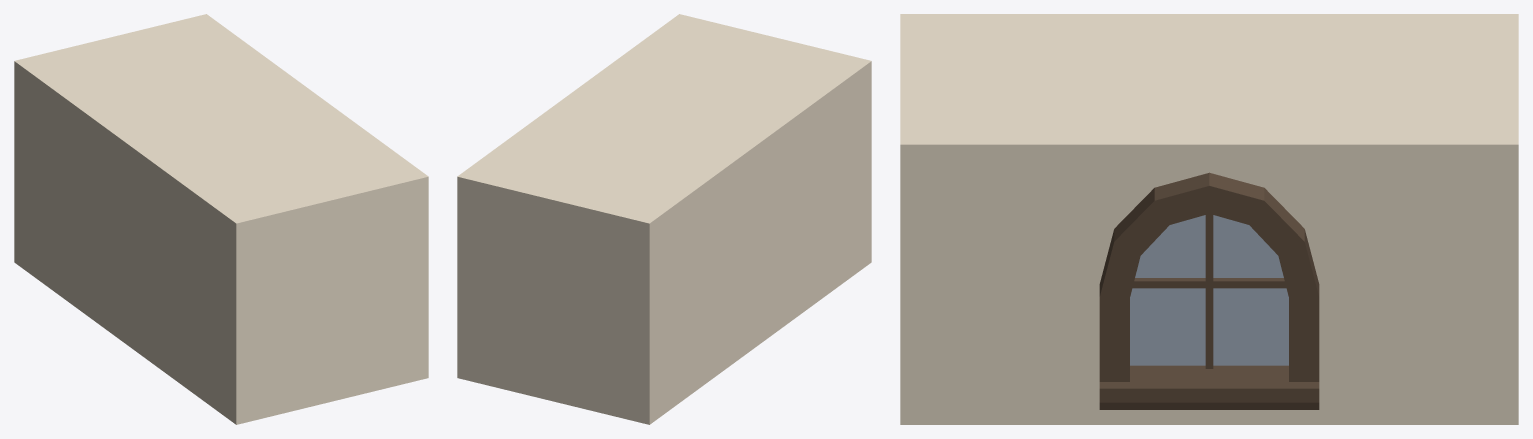
Rendered from Stucco_Window_Rounded_Wide.obj.
3 renders of one model, left to right at view 1: azimuth 30°, elevation 25°; view 2: azimuth 150°, elevation 25°; view 3: azimuth 270°, elevation 25°, orthographic. The views are drawn at different scales.
Visible parts, largest first — view 1: object2; view 2: object2; view 3: object2, object3, object1.
Boxes of the visible parts, <box> form: object2: <box>14,14,428,424</box>; object2: <box>457,14,871,424</box>; object2: <box>900,14,1518,424</box>; object3: <box>1099,172,1319,409</box>; object1: <box>1132,214,1286,368</box>.
Size of the model in its own units: 1.15 by 1 by 2.
